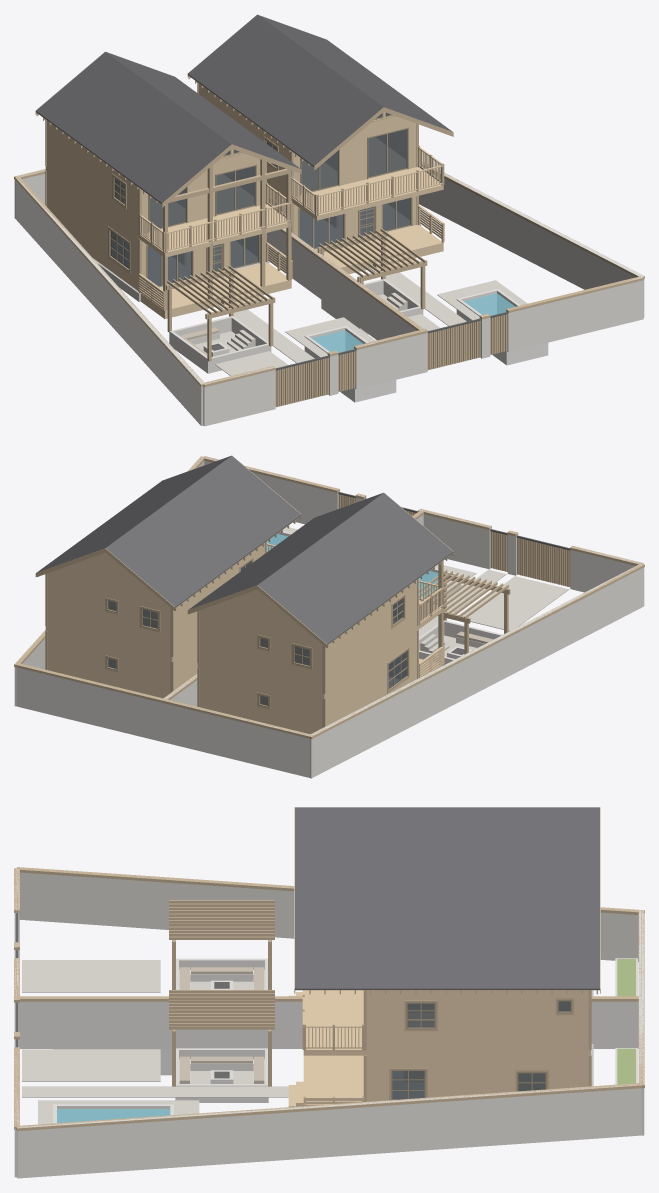
3 renders of one model, top to bottom at view 1: azimuth 30°, elevation 25°; view 2: azimuth 150°, elevation 25°; view 3: azimuth 270°, elevation 25°, orthographic. The views are drawn at different scales.
Visible parts, largest first — view 1: site_wall, roof_tiles, wood, trim, glass, paver, pool_edge, slab, ceiling, frame, water, rafters; view 2: wood, roof_tiles, site_wall, trim, paver, glass, frame, pool_edge, rafters; view 3: site_wall, roof_tiles, wood, trim, paver, pool_edge, glass, cushion, lawn_bed, water, frame, wood_in (+1 smaller).
Part boxes in pixels (bbox=[...]): site_wall: bbox=[14, 162, 644, 426]; roof_tiles: bbox=[36, 14, 452, 203]; wood: bbox=[45, 83, 444, 318]; trim: bbox=[14, 14, 644, 407]; glass: bbox=[110, 112, 410, 287]; paver: bbox=[195, 268, 527, 375]; pool_edge: bbox=[304, 289, 548, 402]; slab: bbox=[93, 204, 421, 301]; ceiling: bbox=[47, 137, 406, 233]; frame: bbox=[108, 112, 412, 290]; water: bbox=[312, 293, 515, 352]; rafters: bbox=[36, 76, 453, 207]; wood: bbox=[45, 543, 444, 734]; roof_tiles: bbox=[36, 455, 453, 644]; site_wall: bbox=[14, 456, 644, 778]; trim: bbox=[14, 455, 644, 739]; paver: bbox=[283, 527, 569, 656]; glass: bbox=[108, 561, 406, 705]; frame: bbox=[106, 559, 408, 707]; pool_edge: bbox=[267, 531, 461, 602]; rafters: bbox=[37, 516, 453, 647]; site_wall: bbox=[14, 869, 644, 1178]; roof_tiles: bbox=[295, 807, 599, 989]; wood: bbox=[288, 990, 590, 1106]; trim: bbox=[14, 807, 644, 1131]; paver: bbox=[22, 960, 288, 1124]; pool_edge: bbox=[53, 1049, 173, 1123]; glass: bbox=[392, 1001, 570, 1099]; cushion: bbox=[179, 967, 264, 1083]; lawn_bed: bbox=[617, 959, 635, 1084]; water: bbox=[57, 1109, 170, 1122]; frame: bbox=[391, 1000, 572, 1099]; wood_in: bbox=[404, 1002, 570, 1090].
Size of the model in its own units: 24.55 by 10.07 by 25.03.
